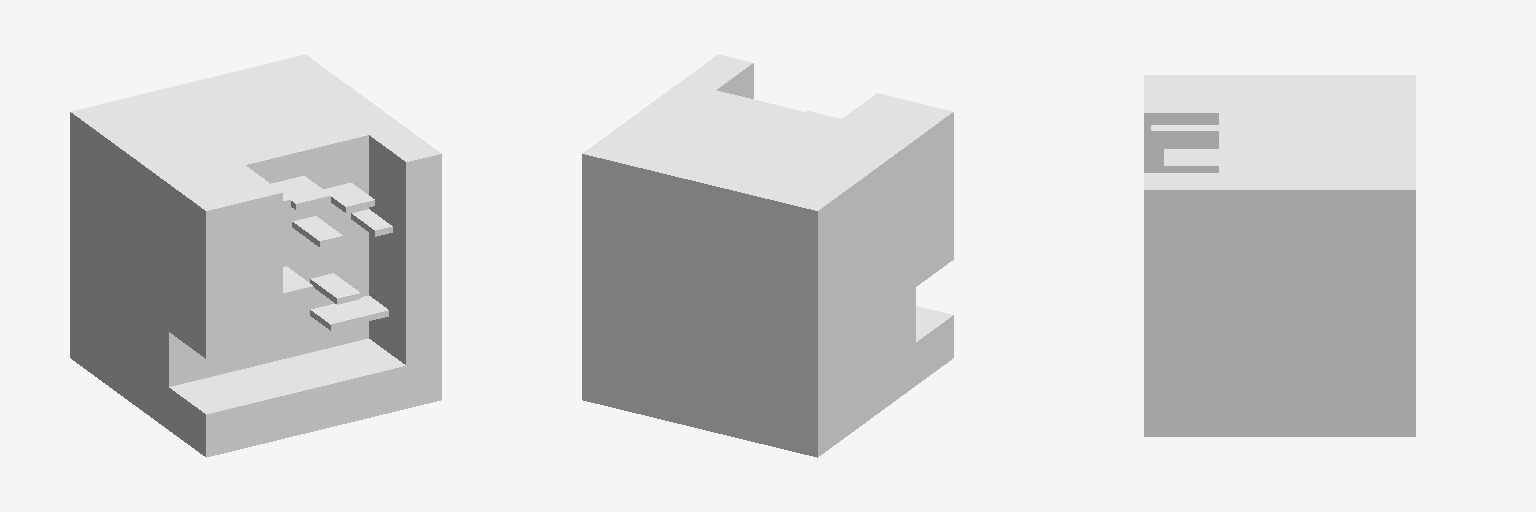
Rendered from up_Piece_V1.obj.
The picture shows the model from 3 angles: view 1: azimuth 30°, elevation 25°; view 2: azimuth 150°, elevation 25°; view 3: azimuth 270°, elevation 25°; orthographic projection.
Parts seen in each view (by area): view 1: up_Piece_V1; view 2: up_Piece_V1; view 3: up_Piece_V1.
Boxes of the visible parts, box(x1,y1,x2,y2) form: up_Piece_V1: box(70, 54, 441, 457); up_Piece_V1: box(582, 54, 953, 457); up_Piece_V1: box(1144, 75, 1415, 436).
Bounding box in the file's own units: 40 × 40 × 40.